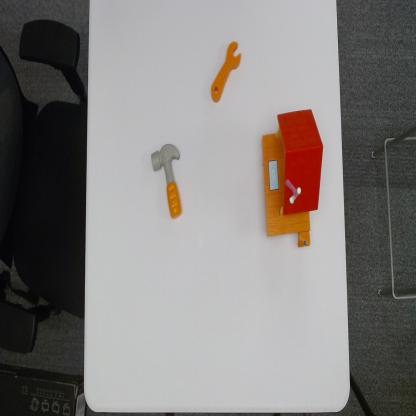Hammer: (150, 141, 183, 220)
House: (262, 105, 323, 248)
Screwdriver: (210, 40, 242, 103)
